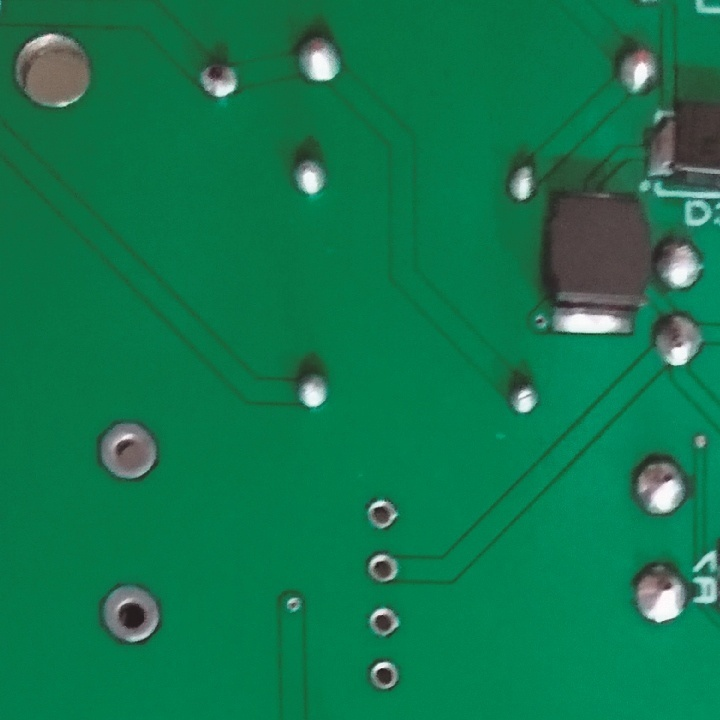F: (95, 418, 162, 485), (99, 580, 164, 648), (365, 603, 404, 640), (368, 656, 403, 694), (363, 497, 402, 530), (365, 549, 401, 584)
